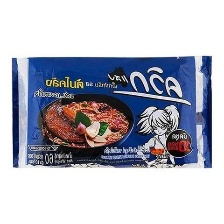snack: (5, 42, 220, 176)
